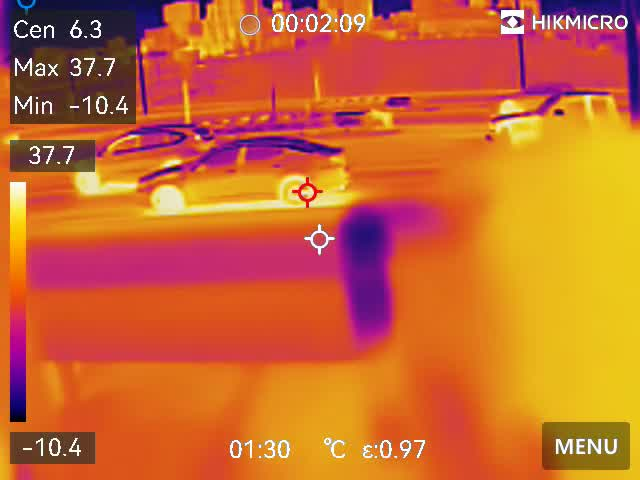largeCar: (67, 124, 210, 190)
lightTruck: (475, 89, 640, 151)
smallCar: (134, 135, 352, 205)
